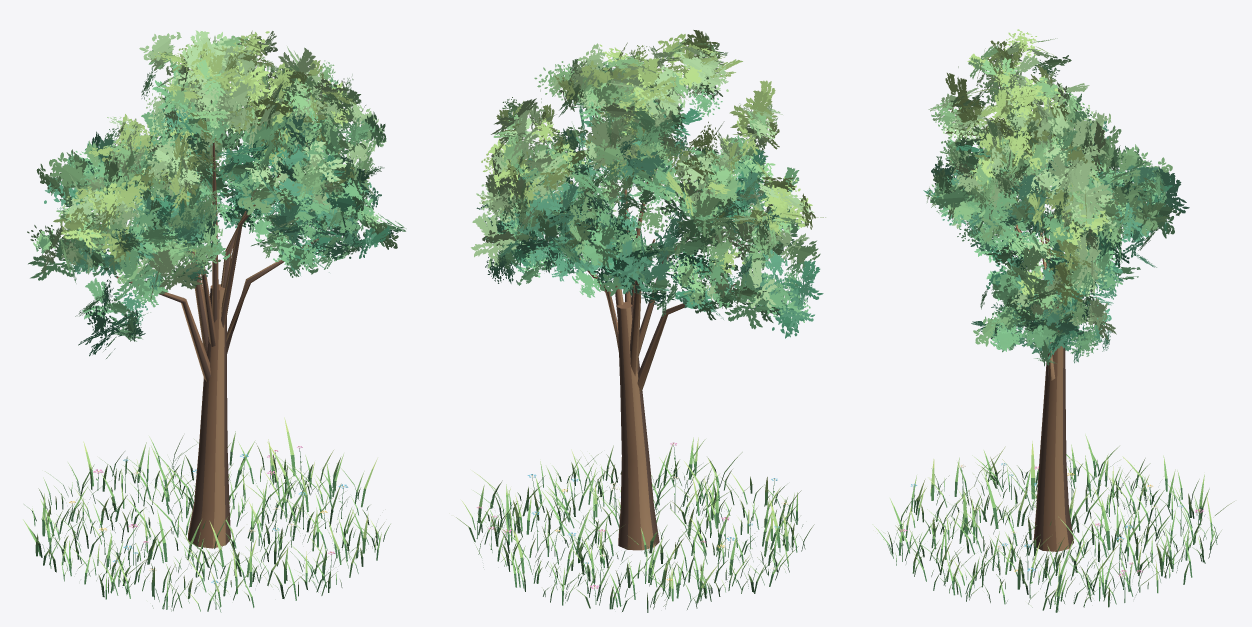
Rendered from Nature_Island_01_Tree.glb.
The picture shows the model from 3 angles, left to right: view 1: azimuth 30°, elevation 25°; view 2: azimuth 150°, elevation 25°; view 3: azimuth 270°, elevation 25°; orthographic projection. The views are drawn at different scales.
Visible parts, largest first — view 1: Nature_Island_01_Tree; view 2: Nature_Island_01_Tree; view 3: Nature_Island_01_Tree.
Boxes of the visible parts, x1,y1,x2,y2 form: Nature_Island_01_Tree: [23, 30, 406, 612]; Nature_Island_01_Tree: [456, 30, 825, 612]; Nature_Island_01_Tree: [872, 29, 1234, 612].
Bounding box in the file's own units: 5.44 × 7.7 × 5.09.
Materials: 20 (6 with a texture image).
